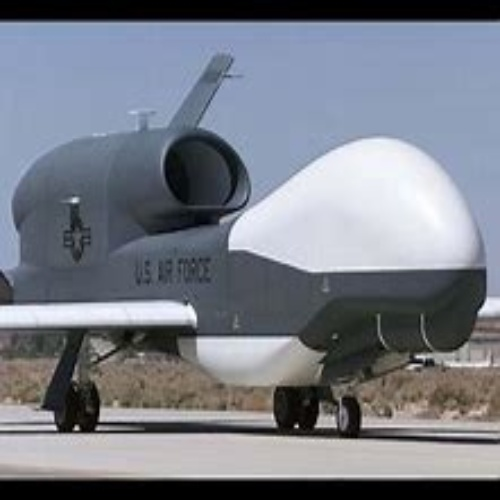uav494: (2, 52, 489, 437)
